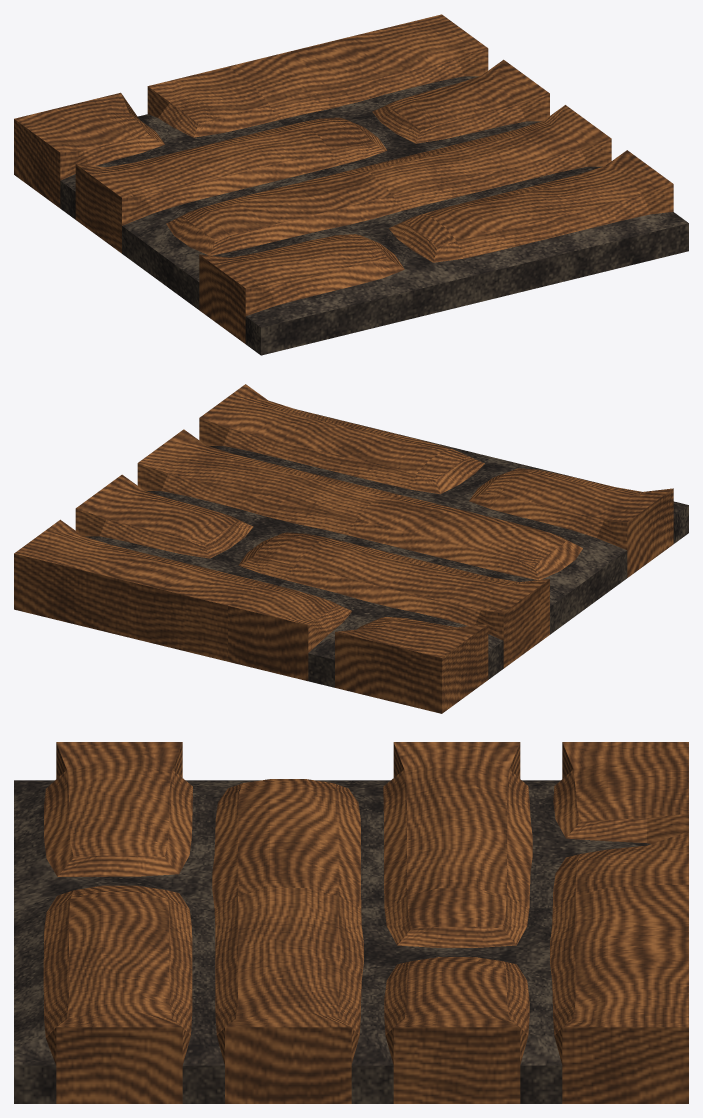
The model's file is floor_wood.glb.
The picture shows the model from 3 angles, top to bottom: view 1: azimuth 30°, elevation 25°; view 2: azimuth 150°, elevation 25°; view 3: azimuth 270°, elevation 25°; orthographic projection. The views are drawn at different scales.
Parts seen in each view (by area): view 1: crypt_floor_wood; view 2: crypt_floor_wood; view 3: crypt_floor_wood.
Part boxes in pixels (x1,y1,x2,y2): crypt_floor_wood: (14,14,688,355); crypt_floor_wood: (14,384,688,713); crypt_floor_wood: (14,742,688,1103).
Size of the model in its own units: 1 by 0.125 by 1.
Materials: 1 (1 with a texture image).
